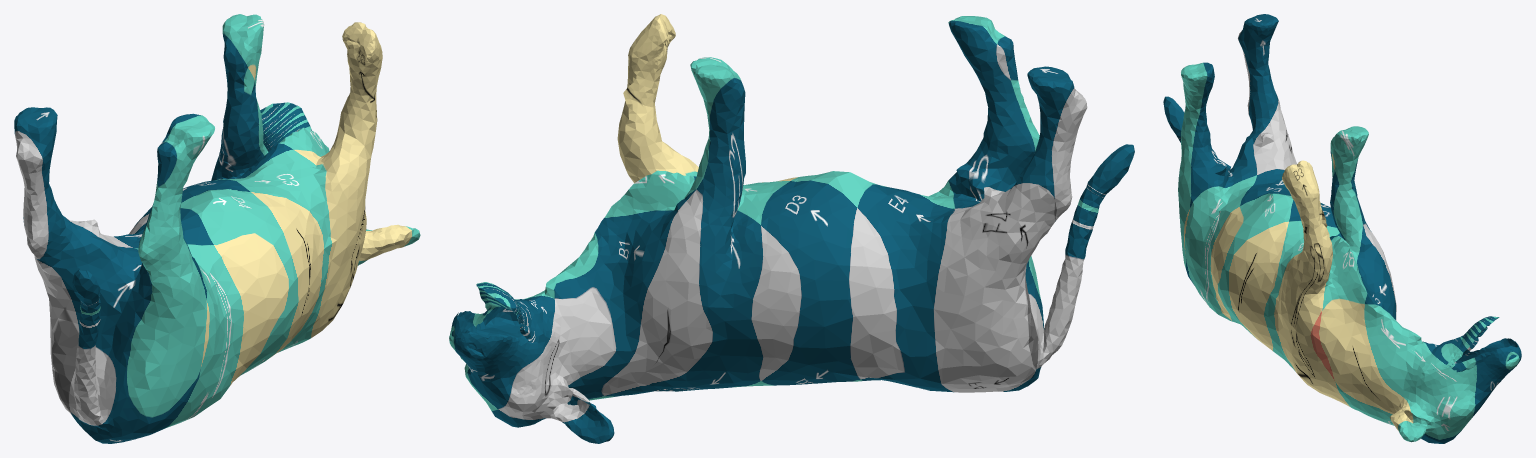
The model's file is lion_02-cow_04.obj.
3 renders of one model, left to right at view 1: azimuth 30°, elevation 25°; view 2: azimuth 150°, elevation 25°; view 3: azimuth 270°, elevation 25°, orthographic. The views are drawn at different scales.
Parts seen in each view (by area): view 1: lion_02-cow_04_export; view 2: lion_02-cow_04_export; view 3: lion_02-cow_04_export.
Boxes of the visible parts, <box> form: lion_02-cow_04_export: <box>14,14,420,443</box>; lion_02-cow_04_export: <box>449,14,1134,443</box>; lion_02-cow_04_export: <box>1163,14,1521,443</box>.
Size of the model in its own units: 0.8521 by 0.5666 by 0.6736.
